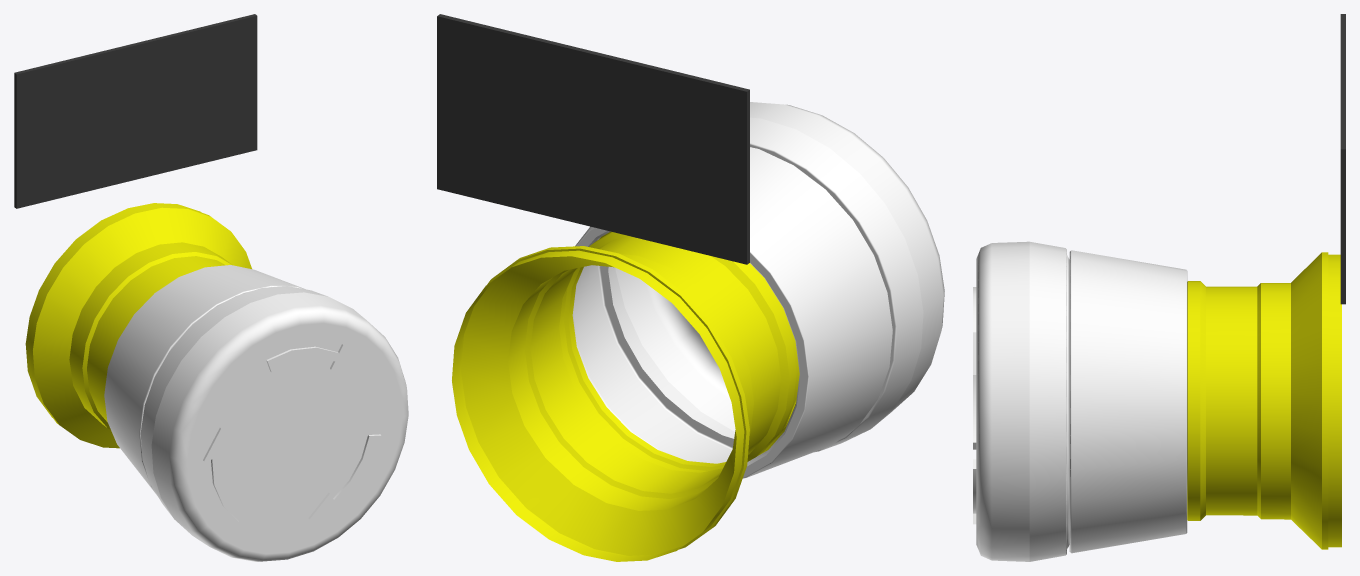
Rendered from ButtonPanelEstop.fbx.
3 renders of one model, left to right at view 1: azimuth 30°, elevation 25°; view 2: azimuth 150°, elevation 25°; view 3: azimuth 270°, elevation 25°, orthographic. The views are drawn at different scales.
Parts seen in each view (by area): view 1: C9900_M800_004, Plate, Static; view 2: C9900_M800_004, Static, Plate; view 3: C9900_M800_004, Static, Plate.
Part boxes in pixels (left/top/right/bottom): C9900_M800_004: left=104, top=265, right=408, bottom=561; Plate: left=14, top=14, right=257, bottom=208; Static: left=25, top=203, right=251, bottom=448; C9900_M800_004: left=572, top=102, right=944, bottom=478; Static: left=452, top=231, right=799, bottom=561; Plate: left=437, top=14, right=749, bottom=264; C9900_M800_004: left=973, top=241, right=1187, bottom=561; Static: left=1187, top=252, right=1341, bottom=549; Plate: left=1340, top=14, right=1345, bottom=304.
Size of the model in its own units: 3 by 4.81 by 3.49.
